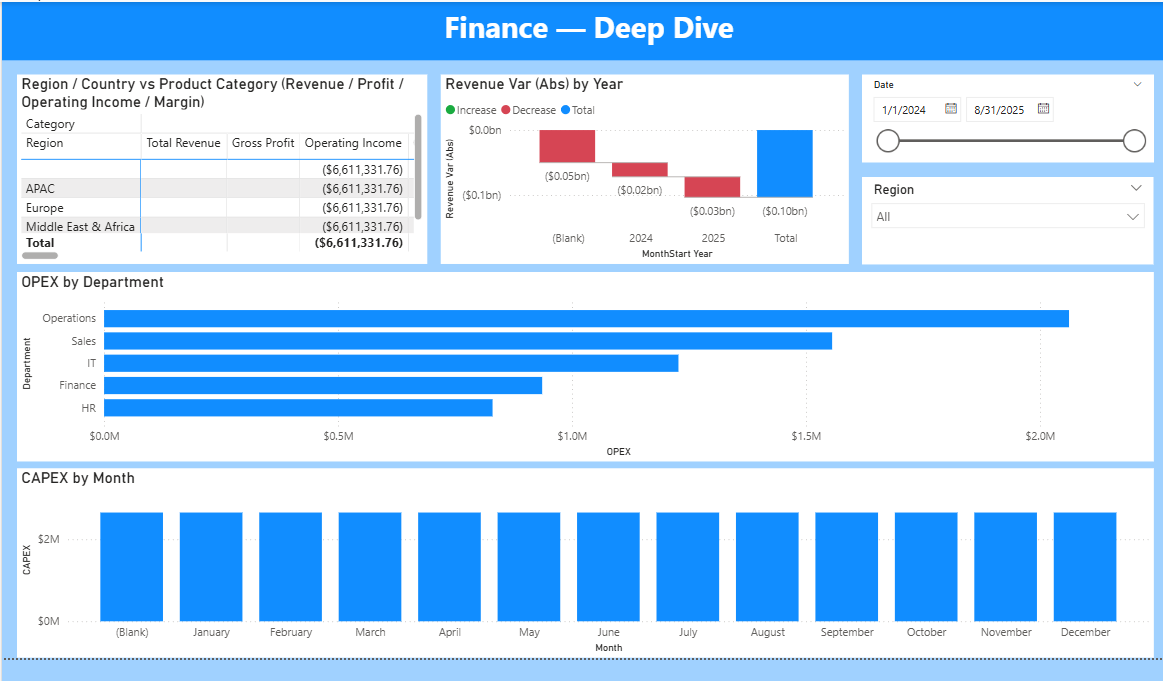

The dashboard page shown, as its layout file describes it:
{"tool":"powerbi","page":{"name":"Finance Deep Dive","canvas":[1280,720],"ordinal":1},"visuals":[{"type":"textbox","box":[0,0,1280,64],"z":0},{"type":"pivotTable","title":"Region / Country vs Product Category (Revenue / Profit / Operating Income / Margin)","fields":{"Rows":["dim_customer.Region"],"Columns":["dim_product.Category"],"Values":["Measures (2).Total Revenue","Measures (2).Gross Profit","Measures (2).Operating Income","Measures (2).Operating Margin %"]},"box":[16,80,450,208],"z":1000},{"type":"waterfallChart","fields":{"Category":["dim_date.MonthStart.Variation.Date Hierarchy.Year","dim_date.MonthStart.Variation.Date Hierarchy.Quarter","dim_date.MonthStart.Variation.Date Hierarchy.Month","dim_date.MonthStart.Variation.Date Hierarchy.Day"],"Y":["Measures (2).Revenue Var (Abs)"]},"box":[481,80,448,208],"z":2000},{"type":"clusteredBarChart","fields":{"Category":["fact_expenses.Department"],"Y":["Measures (2).OPEX"]},"box":[16,296,1248,208],"z":3000},{"type":"columnChart","fields":{"Category":["dim_date.MonthStart.Variation.Date Hierarchy.Month"],"Y":["Measures (2).CAPEX"]},"box":[16,512,1248,208],"z":4000},{"type":"slicer","fields":{"Values":["dim_date.Date"]},"box":[944,80,320,96],"z":5000},{"type":"slicer","fields":{"Values":["dim_customer.Region"]},"box":[944,192,320,96],"z":6000}]}

Visuals, with their boxes on the page's 1280x720 design canvas (x1, y1, x2, y2). These are canvas units, not pixel positions in the 1163x681 screenshot, which may show the page scaled, cropped or inside an application window:
textbox: x1=0, y1=0, x2=1280, y2=64
"Region / Country vs Product Category (Revenue / Profit / Operating Income / Margin)" pivotTable: x1=16, y1=80, x2=466, y2=288
waterfallChart - dim_date.MonthStart.Variation.Date Hierarchy.Year x dim_date.MonthStart.Variation.Date Hierarchy.Quarter: x1=481, y1=80, x2=929, y2=288
clusteredBarChart - fact_expenses.Department x Measures (2).OPEX: x1=16, y1=296, x2=1264, y2=504
columnChart - dim_date.MonthStart.Variation.Date Hierarchy.Month x Measures (2).CAPEX: x1=16, y1=512, x2=1264, y2=720
slicer - dim_date.Date: x1=944, y1=80, x2=1264, y2=176
slicer - dim_customer.Region: x1=944, y1=192, x2=1264, y2=288
